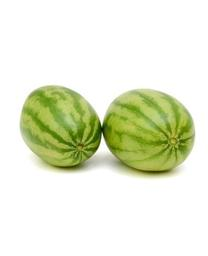watermelon: (103, 89, 196, 174), (19, 84, 102, 168)
